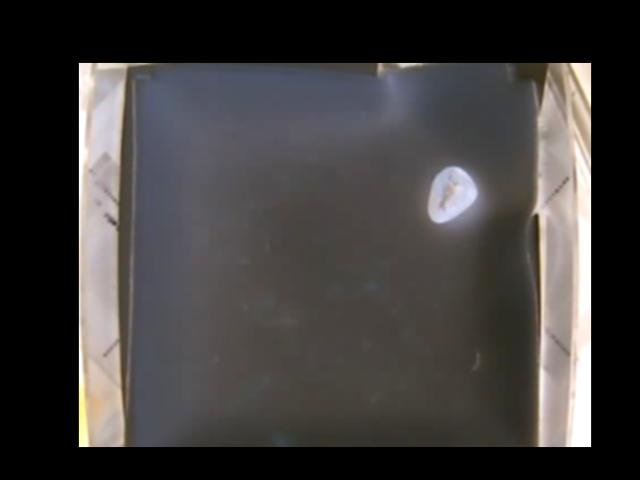Pebble: (427, 165, 475, 223)
